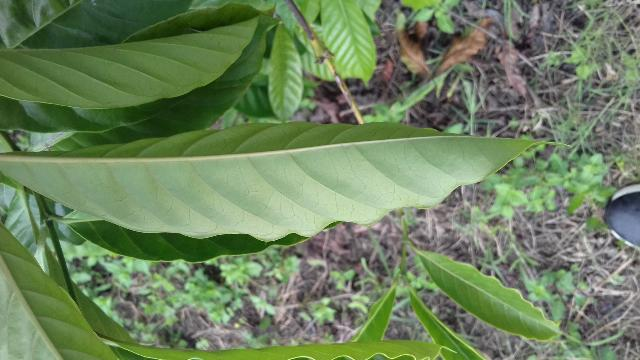healthy: (1, 118, 568, 239)
